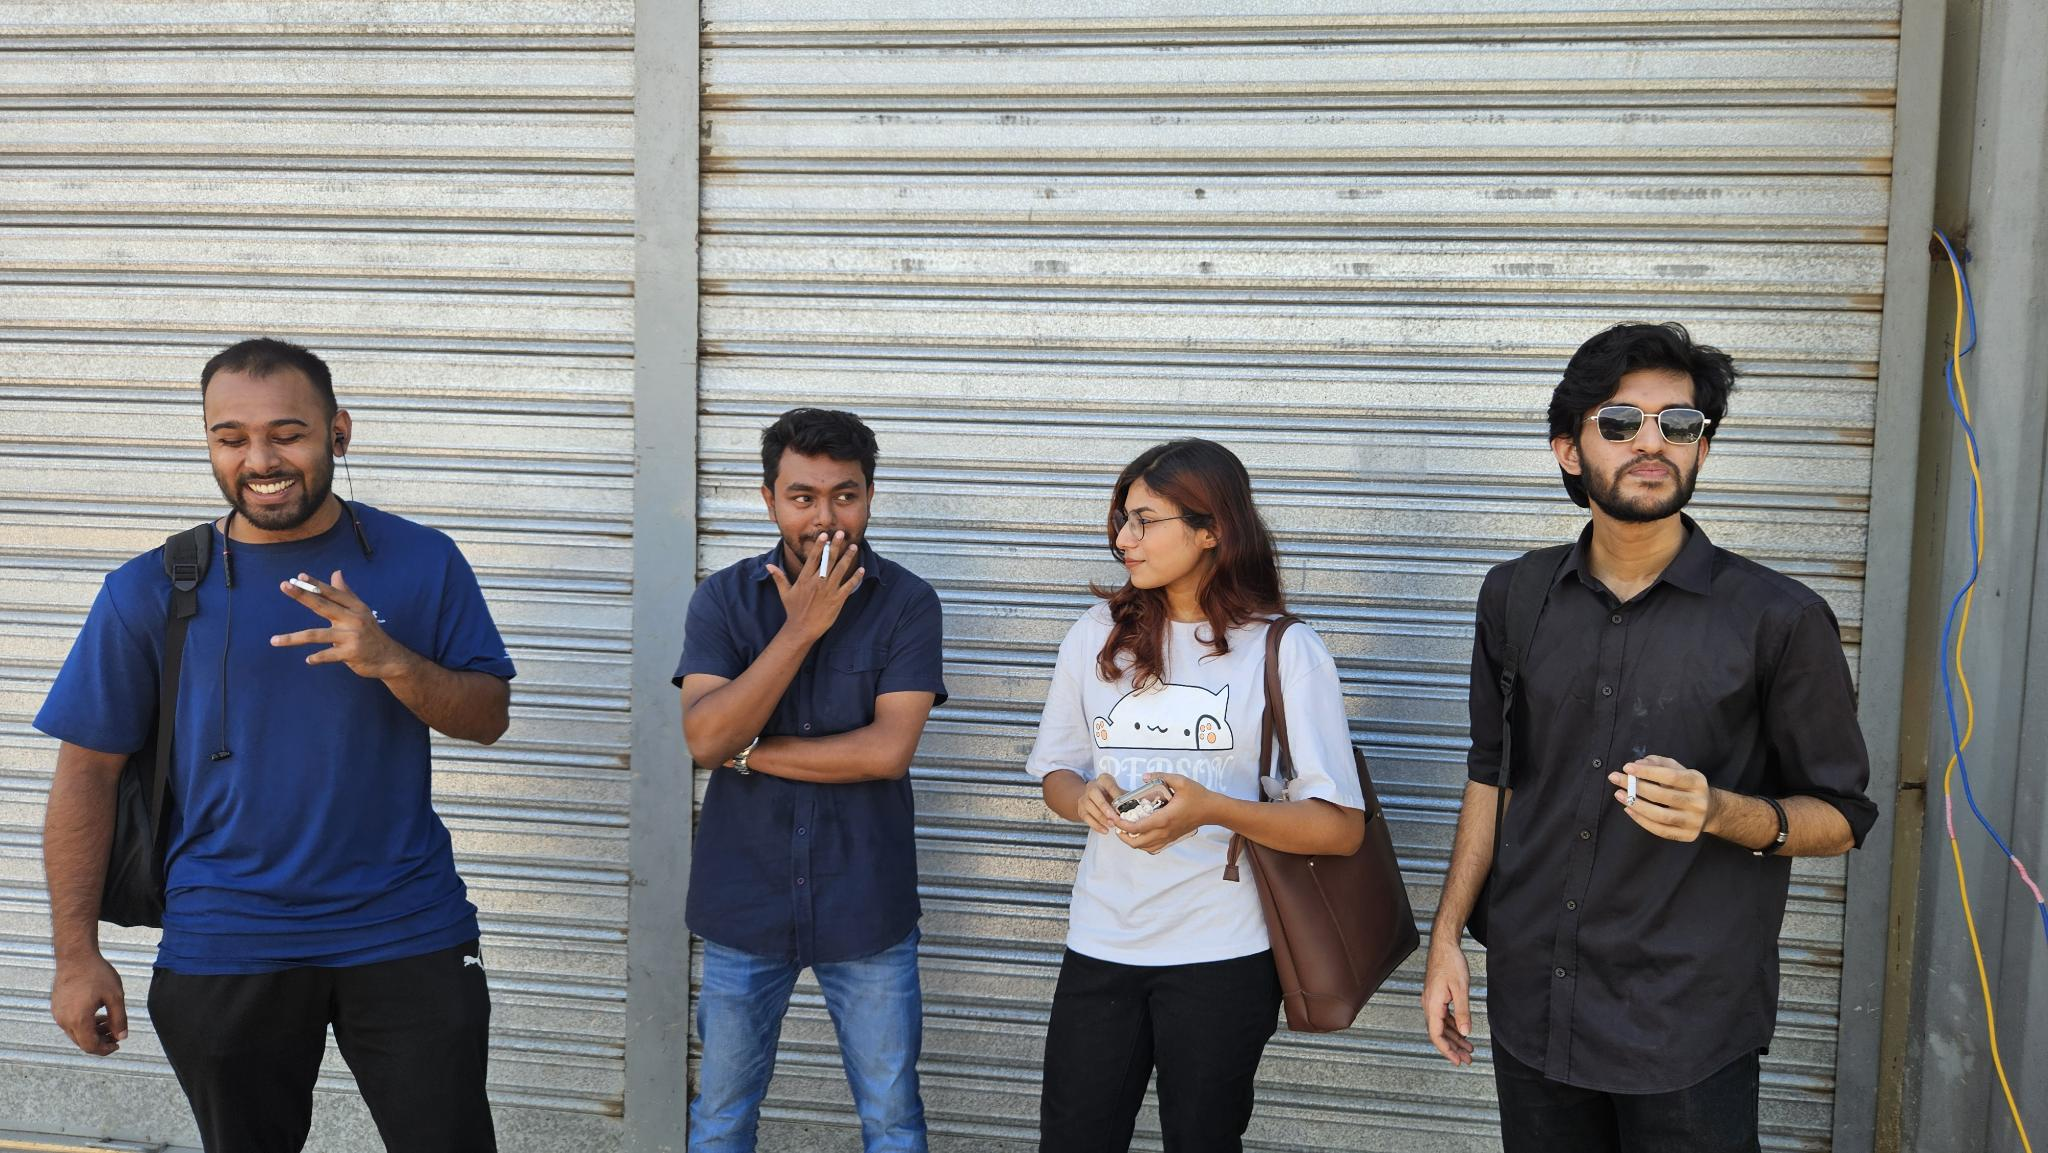cigarette: (286, 575, 324, 598), (816, 539, 834, 582), (1623, 771, 1640, 810)
nonSmoker: (1024, 439, 1421, 1153)
smoker: (31, 339, 516, 1153), (1423, 321, 1878, 1153), (671, 409, 947, 1153)
